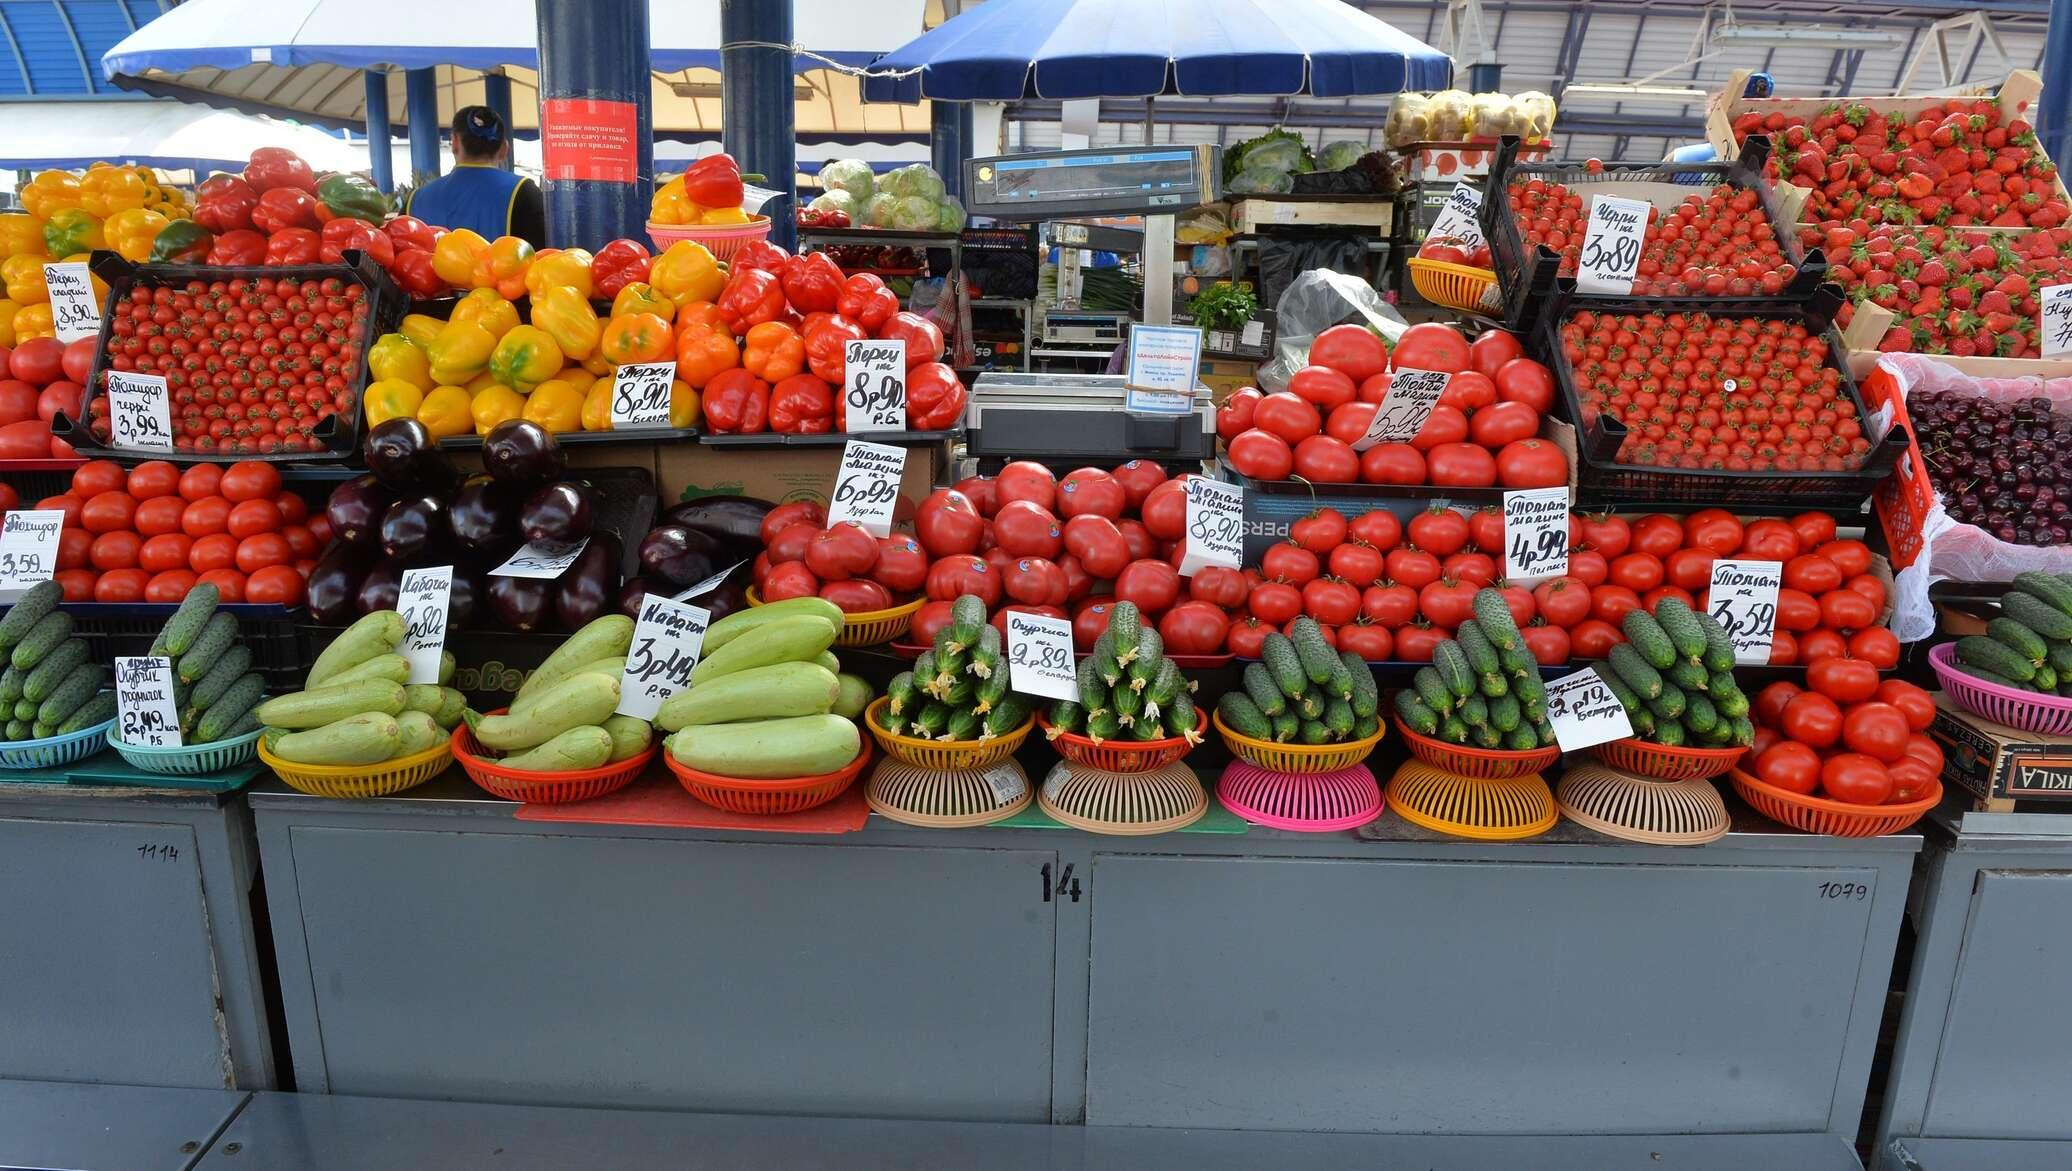cabbage: (809, 151, 970, 229), (1221, 125, 1363, 190)
cucumber: (1397, 578, 1565, 756), (127, 580, 277, 736), (1599, 595, 1754, 743), (1054, 599, 1206, 743), (887, 595, 1022, 744), (0, 580, 120, 739), (1231, 629, 1383, 747), (1949, 562, 2072, 701)
eggplant: (337, 423, 625, 620), (644, 481, 783, 613)
sweet pepper: (380, 224, 954, 421), (11, 160, 175, 337), (182, 141, 396, 266)
tomato: (1263, 510, 1893, 650), (920, 451, 1242, 653), (1228, 322, 1566, 496), (88, 261, 370, 454), (1571, 309, 1891, 479), (23, 457, 332, 604), (1509, 162, 1794, 295), (1749, 648, 1949, 796), (776, 454, 928, 613), (21, 343, 103, 458), (1419, 215, 1511, 280)
